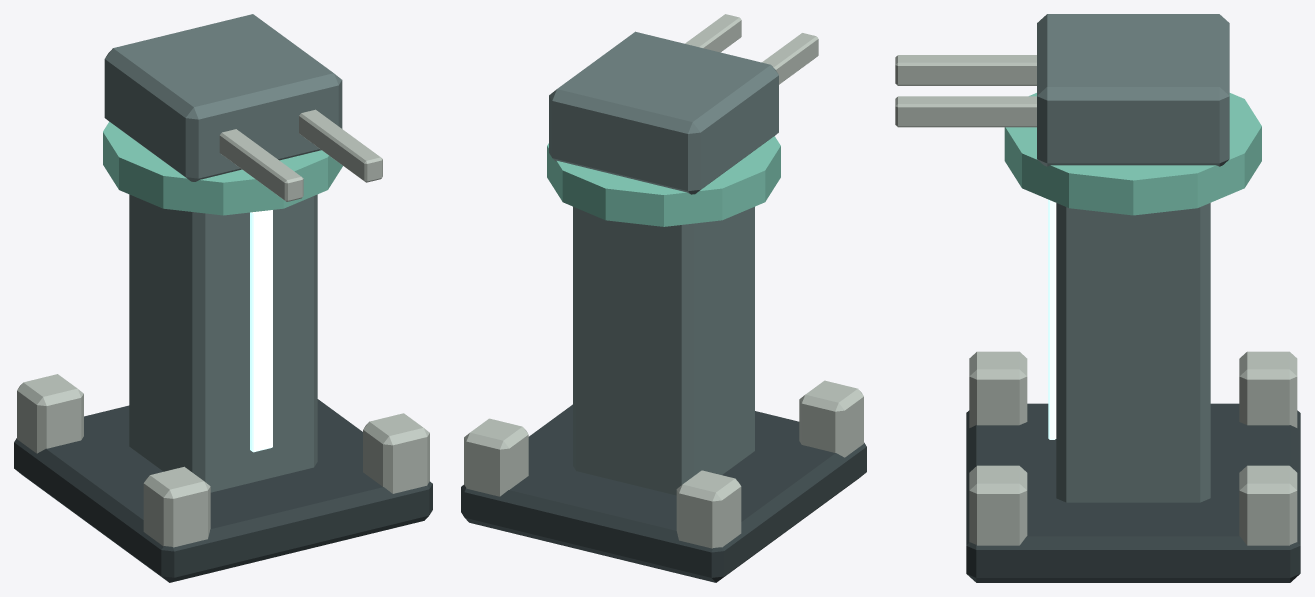
File: tower.glb
The picture shows the model from 3 angles, left to right: view 1: azimuth 30°, elevation 25°; view 2: azimuth 150°, elevation 25°; view 3: azimuth 270°, elevation 25°; orthographic projection. The views are drawn at different scales.
Visible parts, largest first — view 1: Pedestal, Foundation.004, turret.001, Turret_ring, Vertical_light, Corner_armor.016, Corner_armor.018, Corner_armor.017, Barrel, Barrel.001; view 2: Pedestal, Foundation.004, turret.001, Turret_ring, Corner_armor.017, Corner_armor.019, Corner_armor.016, Barrel, Barrel.001; view 3: Pedestal, Foundation.004, turret.001, Turret_ring, Corner_armor.018, Corner_armor.019, Barrel.001, Barrel, Corner_armor.017, Corner_armor.016, Vertical_light.
Part boxes in pixels (x1,y1,x2,y2): Pedestal: (129,194,317,492); Foundation.004: (14,399,432,582); turret.001: (104,14,342,181); Turret_ring: (103,121,342,215); Vertical_light: (250,210,272,452); Corner_armor.016: (143,466,210,547); Corner_armor.018: (363,413,429,493); Corner_armor.017: (17,374,83,453); Barrel: (219,129,303,201); Barrel.001: (299,109,382,182); Pedestal: (573,206,754,495); Foundation.004: (461,404,866,582); turret.001: (549,31,778,194); Turret_ring: (547,136,780,226); Corner_armor.017: (676,470,741,548); Corner_armor.019: (464,418,528,496); Corner_armor.016: (799,380,863,457); Barrel: (762,33,818,84); Barrel.001: (685,14,741,52); Pedestal: (1056,203,1210,502); Foundation.004: (966,403,1300,582); turret.001: (1037,14,1229,166); Turret_ring: (1004,93,1261,215); Corner_armor.018: (969,465,1027,545); Corner_armor.019: (1239,465,1297,545); Barrel.001: (895,96,1036,127); Barrel: (895,55,1036,85); Corner_armor.017: (1239,351,1297,427); Corner_armor.016: (969,351,1027,427); Vertical_light: (1048,199,1056,439).
Bounding box in the file's own units: 2.6 × 4 × 3.15.
